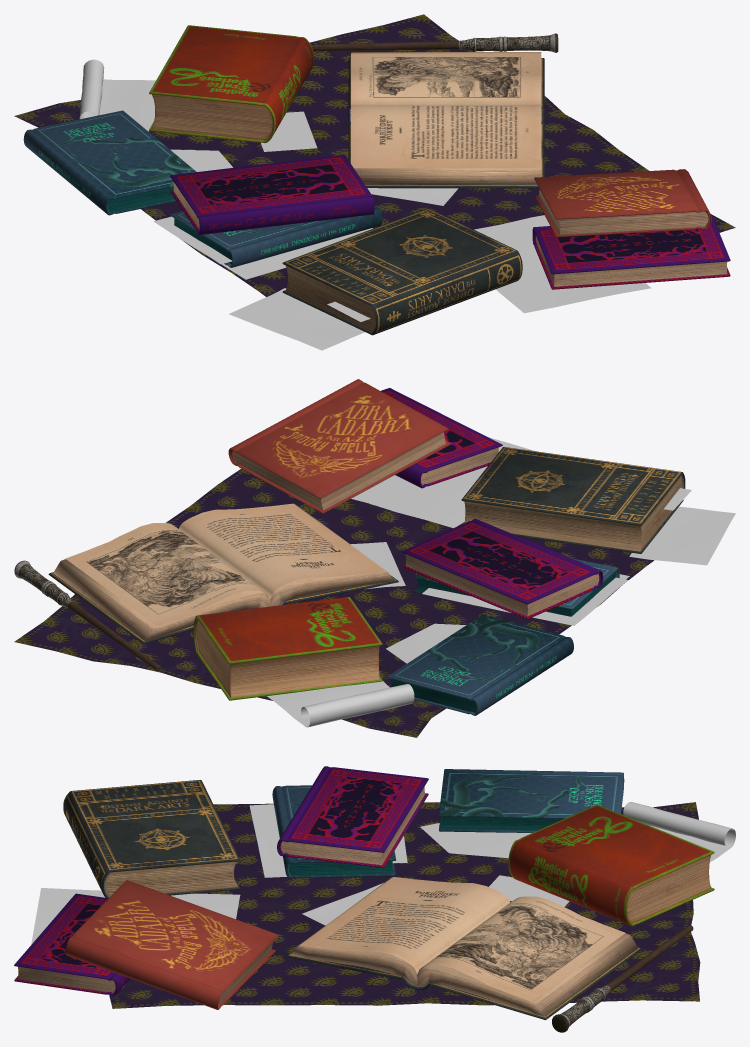
3 views of the same model, one above another, from view 1: azimuth 30°, elevation 25°; view 2: azimuth 150°, elevation 25°; view 3: azimuth 270°, elevation 25° (orthographic). The views are drawn at different scales.
Visible parts, largest first — view 1: Defence-Against-Dark-Arts-Open_Defence-Against-Dark-Arts-Ope, Cloth, Defence-Against-Dark-Arts, Magical-Potions, Xylomancy, Denizens-of-the-Deep-2, Abra-Cadabra, Xylomancy.001, Denizens-of-the-Deep, Illustration-01, Illustration-02, Paper-Curled (+7 smaller); view 2: Defence-Against-Dark-Arts-Open_Defence-Against-Dark-Arts-Ope, Cloth, Defence-Against-Dark-Arts, Abra-Cadabra, Magical-Potions, Xylomancy, Denizens-of-the-Deep-2, Illustration-01, Paper-Curled, Xylomancy.001, Illustration-02, Wand (+5 smaller); view 3: Cloth, Defence-Against-Dark-Arts-Open_Defence-Against-Dark-Arts-Ope, Magical-Potions, Defence-Against-Dark-Arts, Abra-Cadabra, Xylomancy, Denizens-of-the-Deep-2, Xylomancy.001, Denizens-of-the-Deep, Paper-Curled, Illustration-01, Envelope (+5 smaller).
Boxes of the visible parts, left/top/right/bottom form: Defence-Against-Dark-Arts-Open_Defence-Against-Dark-Arts-Ope: left=351, top=52, right=541, bottom=184; Cloth: left=14, top=14, right=735, bottom=296; Defence-Against-Dark-Arts: left=282, top=208, right=522, bottom=335; Magical-Potions: left=149, top=25, right=313, bottom=142; Xylomancy: left=170, top=154, right=374, bottom=234; Denizens-of-the-Deep-2: left=23, top=110, right=196, bottom=215; Abra-Cadabra: left=534, top=169, right=711, bottom=237; Xylomancy.001: left=532, top=214, right=730, bottom=289; Denizens-of-the-Deep: left=170, top=205, right=382, bottom=267; Illustration-01: left=474, top=215, right=651, bottom=313; Illustration-02: left=229, top=288, right=364, bottom=350; Paper-Curled: left=79, top=59, right=155, bottom=131; Defence-Against-Dark-Arts-Open_Defence-Against-Dark-Arts-Ope: left=53, top=503, right=394, bottom=640; Cloth: left=14, top=469, right=653, bottom=737; Defence-Against-Dark-Arts: left=461, top=447, right=685, bottom=553; Abra-Cadabra: left=228, top=379, right=451, bottom=513; Magical-Potions: left=193, top=597, right=382, bottom=700; Xylomancy: left=401, top=518, right=603, bottom=619; Denizens-of-the-Deep-2: left=387, top=614, right=573, bottom=715; Illustration-01: left=351, top=437, right=535, bottom=528; Paper-Curled: left=267, top=681, right=414, bottom=727; Xylomancy.001: left=381, top=388, right=502, bottom=488; Illustration-02: left=629, top=506, right=735, bottom=565; Wand: left=14, top=560, right=160, bottom=671; Cloth: left=109, top=802, right=700, bottom=1008; Defence-Against-Dark-Arts-Open_Defence-Against-Dark-Arts-Ope: left=290, top=877, right=637, bottom=1016; Magical-Potions: left=508, top=804, right=714, bottom=926; Defence-Against-Dark-Arts: left=63, top=780, right=240, bottom=898; Abra-Cadabra: left=65, top=880, right=278, bottom=1009; Xylomancy: left=277, top=766, right=428, bottom=867; Denizens-of-the-Deep-2: left=438, top=769, right=624, bottom=832; Xylomancy.001: left=14, top=893, right=129, bottom=995; Denizens-of-the-Deep: left=272, top=785, right=395, bottom=878; Paper-Curled: left=623, top=802, right=735, bottom=862; Illustration-01: left=31, top=888, right=240, bottom=944; Envelope: left=420, top=823, right=531, bottom=858.
Bounding box in the file's own units: 7.95 × 0.6973 × 9.64.
